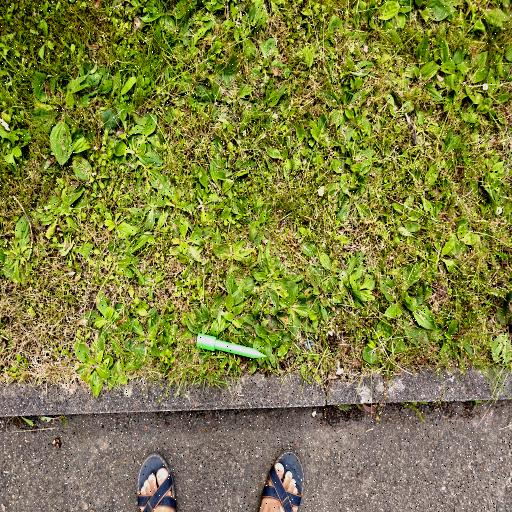Probe-Detection: (197, 334, 266, 358)
